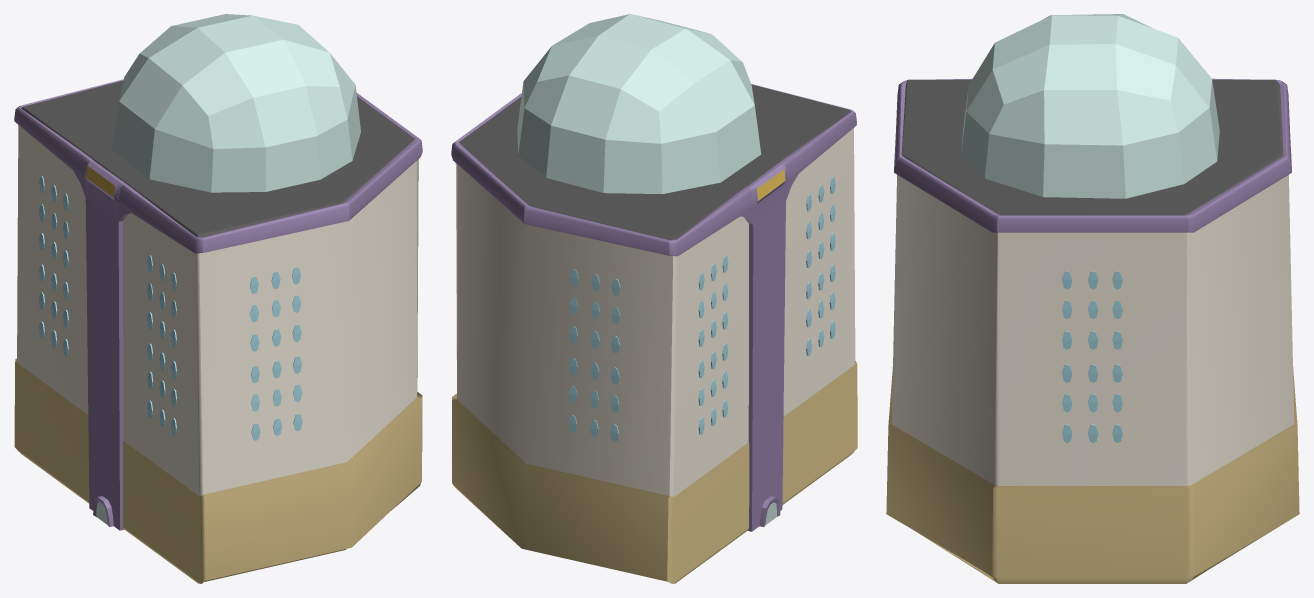
The model's file is Building_1.fbx.
3 views of the same model, side by side, from view 1: azimuth 30°, elevation 25°; view 2: azimuth 150°, elevation 25°; view 3: azimuth 270°, elevation 25° (orthographic). The views are drawn at different scales.
Parts seen in each view (by area): view 1: Building_1; view 2: Building_1; view 3: Building_1.
Part boxes in pixels (box(x1,y1,x2,y2)): Building_1: box(14, 14, 422, 583); Building_1: box(451, 14, 857, 583); Building_1: box(886, 14, 1299, 583).
Size of the model in its own units: 763 by 931 by 1202.
